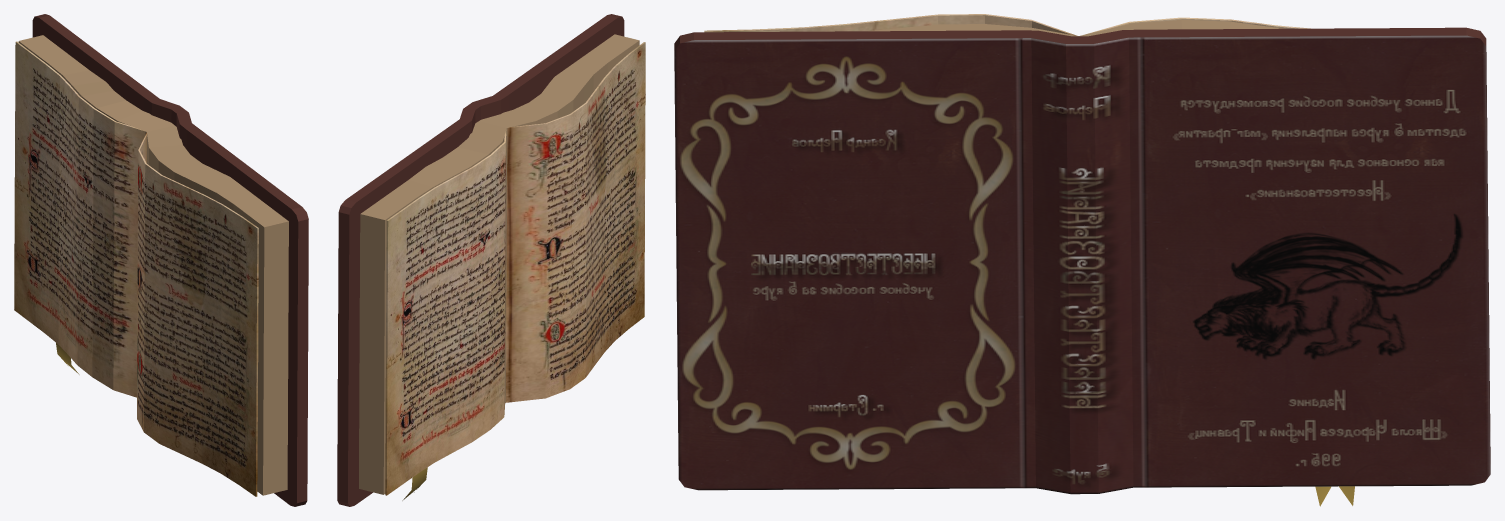
File: livre_ouvert.glb
3 renders of one model, left to right at view 1: azimuth 30°, elevation 25°; view 2: azimuth 150°, elevation 25°; view 3: azimuth 270°, elevation 25°, orthographic. The views are drawn at different scales.
Bounding box in the file's own units: 0.0708 × 0.3069 × 0.4684.
5 materials, 2 textured.
